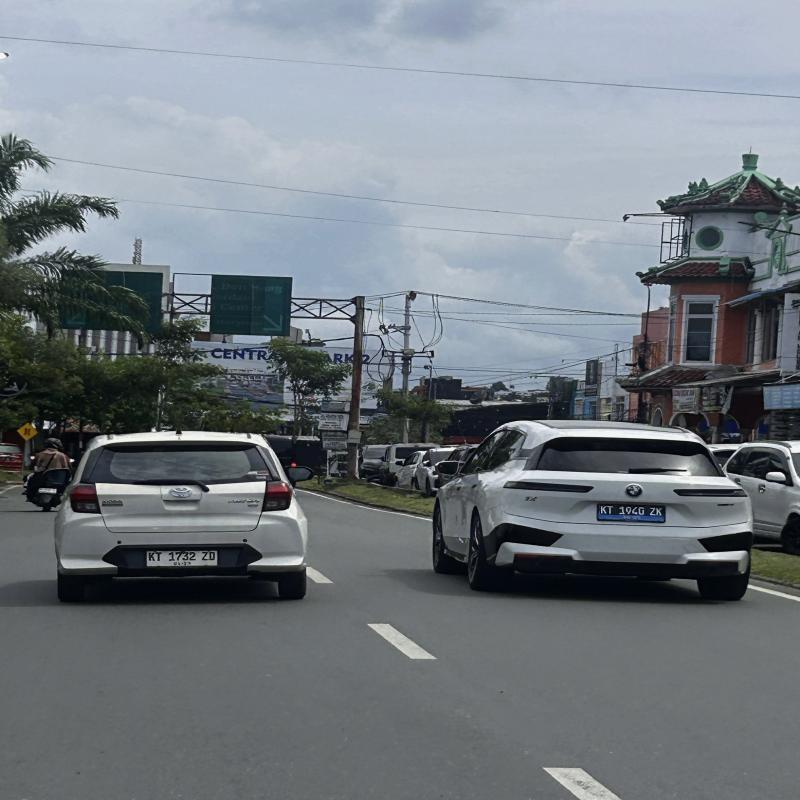license plate on a car: (597, 503, 665, 522), (145, 549, 217, 566)
